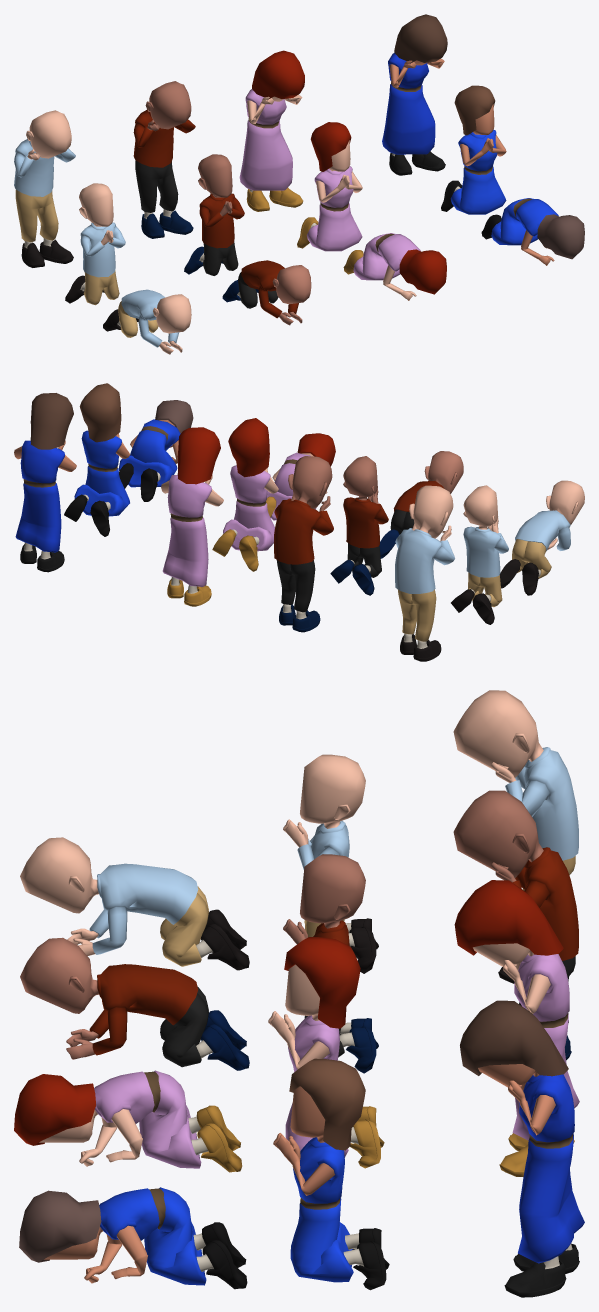
The model's file is NPC-s.fbx.
The picture shows the model from 3 angles, top to bottom: view 1: azimuth 30°, elevation 25°; view 2: azimuth 150°, elevation 25°; view 3: azimuth 270°, elevation 25°; orthographic projection. The views are drawn at different scales.
Visible parts, largest first — view 1: Female_1_3, Female_2_3, Male_2_3, Male_1_3, Female_1_2, Female_2_2, Male_2_2, Male_1_2, Female_1_1, Female_2_1, Male_1_1, Male_2_1; view 2: Female_2_3, Female_1_3, Male_1_3, Male_2_3, Female_1_2, Female_2_2, Male_1_2, Male_2_2, Male_2_1, Female_1_1, Male_1_1, Female_2_1; view 3: Female_1_3, Female_1_1, Female_2_1, Male_1_1, Female_1_2, Male_2_1, Female_2_3, Male_2_3, Female_2_2, Male_1_3, Male_2_2, Male_1_2.
Boxes of the visible parts, x1=… form: Female_1_3: x1=382, y1=14, x2=447, y2=175; Female_2_3: x1=239, y1=50, x2=304, y2=211; Male_2_3: x1=14, y1=110, x2=75, y2=267; Male_1_3: x1=133, y1=81, x2=195, y2=238; Female_1_2: x1=441, y1=85, x2=506, y2=214; Female_2_2: x1=297, y1=122, x2=362, y2=251; Male_2_2: x1=65, y1=183, x2=125, y2=305; Male_1_2: x1=184, y1=154, x2=244, y2=275; Female_1_1: x1=481, y1=198, x2=584, y2=265; Female_2_1: x1=343, y1=233, x2=446, y2=300; Male_1_1: x1=222, y1=260, x2=311, y2=325; Male_2_1: x1=103, y1=289, x2=191, y2=354; Female_2_3: x1=161, y1=427, x2=223, y2=606; Female_1_3: x1=14, y1=393, x2=76, y2=572; Male_1_3: x1=274, y1=456, x2=333, y2=632; Male_2_3: x1=395, y1=485, x2=454, y2=661; Female_1_2: x1=64, y1=383, x2=130, y2=536; Female_2_2: x1=212, y1=418, x2=278, y2=571; Male_1_2: x1=330, y1=456, x2=388, y2=595; Male_2_2: x1=451, y1=485, x2=508, y2=624; Male_2_1: x1=499, y1=480, x2=584, y2=595; Female_1_1: x1=118, y1=400, x2=193, y2=501; Male_1_1: x1=379, y1=451, x2=463, y2=558; Female_2_1: x1=266, y1=433, x2=335, y2=520; Female_1_3: x1=460, y1=1000, x2=584, y2=1297; Female_1_1: x1=19, y1=1187, x2=247, y2=1289; Female_2_1: x1=14, y1=1070, x2=242, y2=1172; Male_1_1: x1=20, y1=937, x2=249, y2=1070; Female_1_2: x1=273, y1=1058, x2=389, y2=1290; Male_2_1: x1=20, y1=837, x2=249, y2=970; Female_2_3: x1=454, y1=880, x2=579, y2=1176; Male_2_3: x1=453, y1=690, x2=578, y2=983; Female_2_2: x1=268, y1=937, x2=384, y2=1168; Male_1_3: x1=453, y1=790, x2=578, y2=1060; Male_2_2: x1=283, y1=754, x2=378, y2=973; Male_1_2: x1=283, y1=854, x2=378, y2=1073.
Size of the model in its own units: 576 by 209 by 384.
